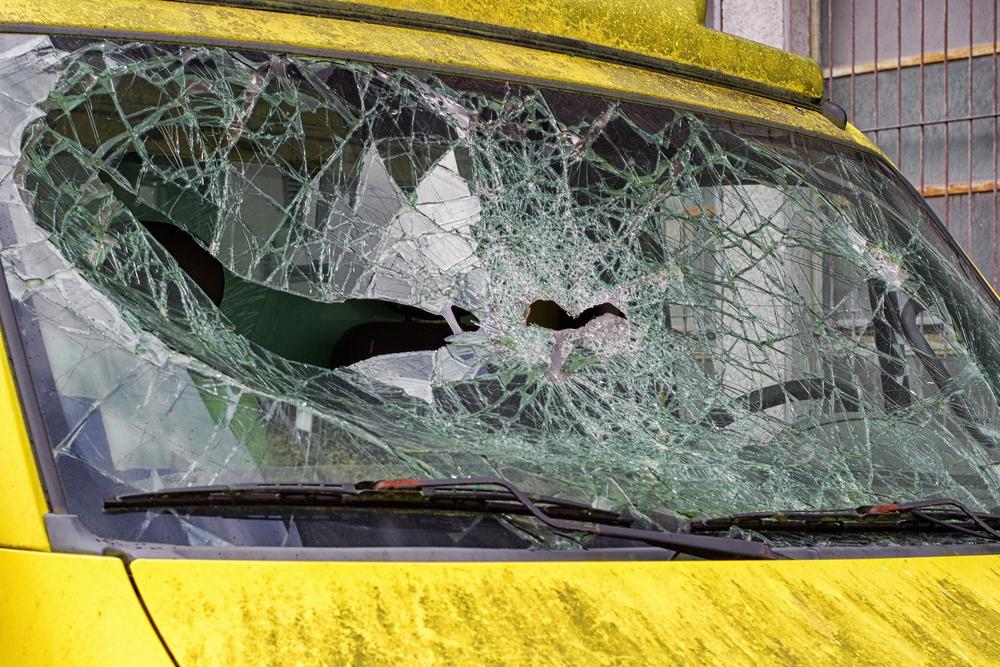glass shatter: (0, 33, 1000, 547)
